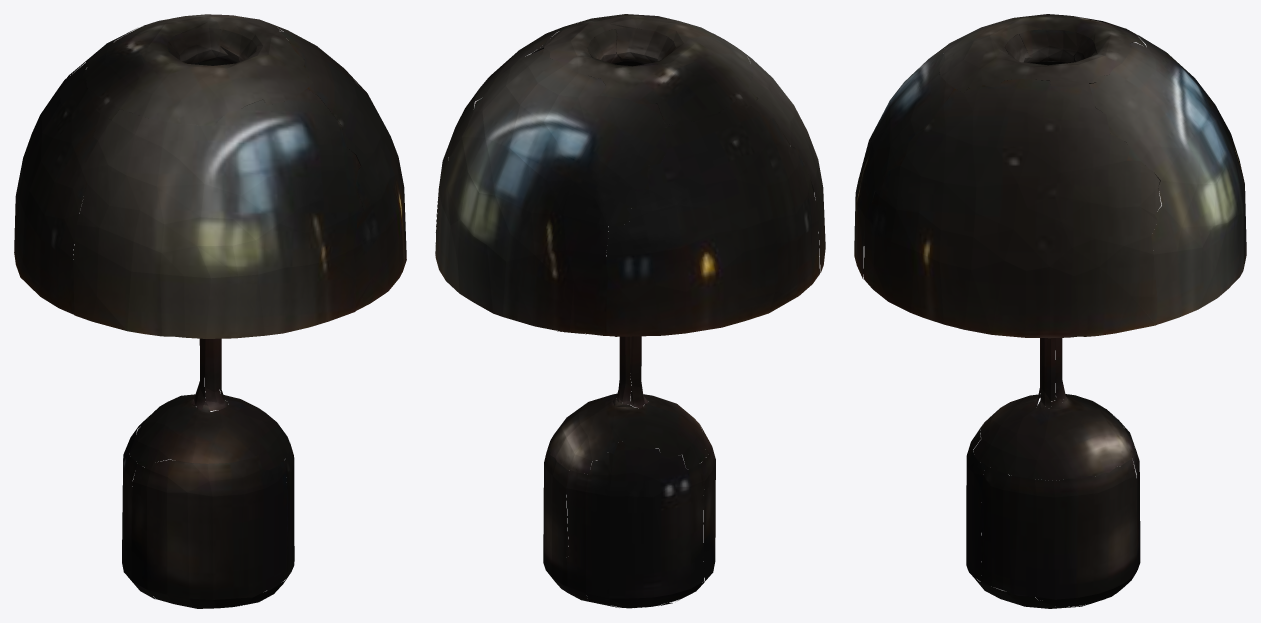
File: s-lampe-dome.glb
3 renders of one model, left to right at view 1: azimuth 30°, elevation 25°; view 2: azimuth 150°, elevation 25°; view 3: azimuth 270°, elevation 25°, orthographic.
Visible parts, largest first — view 1: geometry_0; view 2: geometry_0; view 3: geometry_0.
Part boxes in pixels (x1,y1,x2,y2): geometry_0: (14, 14, 406, 608); geometry_0: (435, 14, 825, 608); geometry_0: (854, 14, 1246, 608).
Size of the model in its own units: 0.6599 by 0.998 by 0.6622.
Materials: 1 (1 with a texture image).
